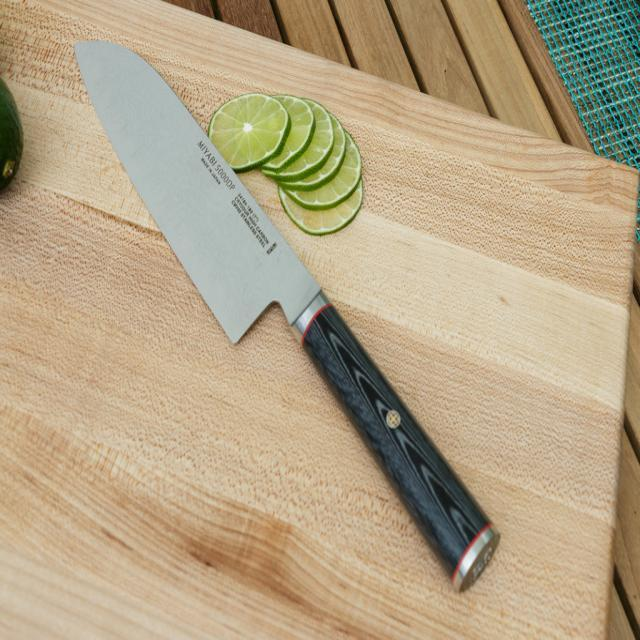Knife: (75, 41, 499, 591)
